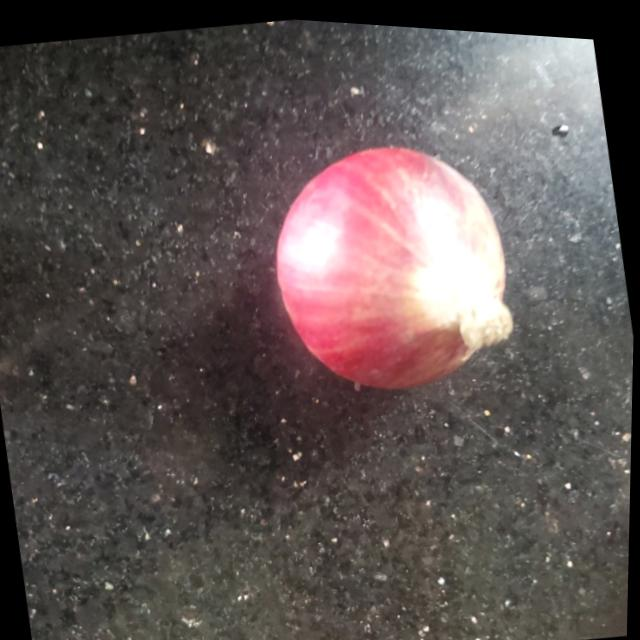onion: (258, 121, 527, 409)
